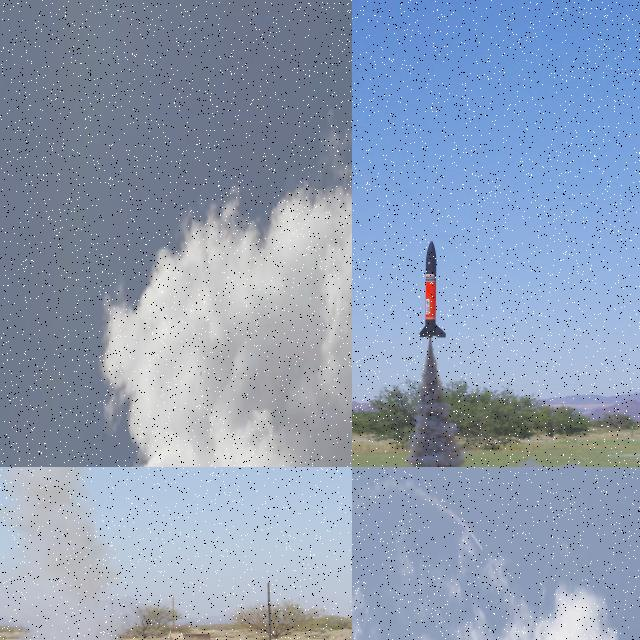Rocket: (417, 240, 446, 338), (200, 370, 202, 377), (483, 550, 484, 553)
